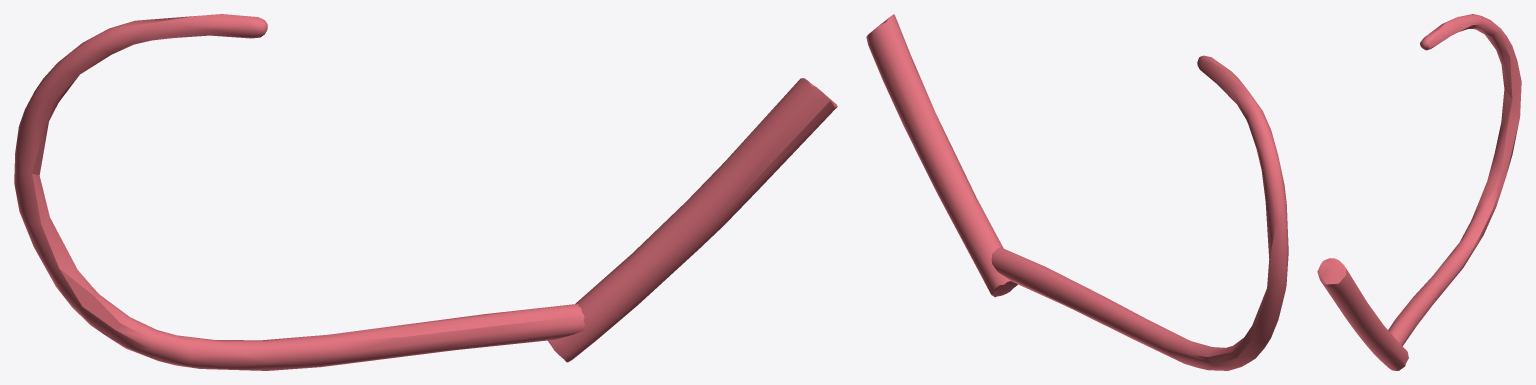
The model's file is fma15408_cx21.glb.
3 renders of one model, left to right at view 1: azimuth 30°, elevation 25°; view 2: azimuth 150°, elevation 25°; view 3: azimuth 270°, elevation 25°, orthographic. The views are drawn at different scales.
Visible parts, largest first — view 1: FMA15408_CX21; view 2: FMA15408_CX21; view 3: FMA15408_CX21.
Part boxes in pixels (x1=…): FMA15408_CX21: x1=14, y1=14, x2=837, y2=370; FMA15408_CX21: x1=866, y1=14, x2=1288, y2=370; FMA15408_CX21: x1=1317, y1=14, x2=1521, y2=370.
Size of the model in its own units: 0.063 by 0.0354 by 0.0265.
